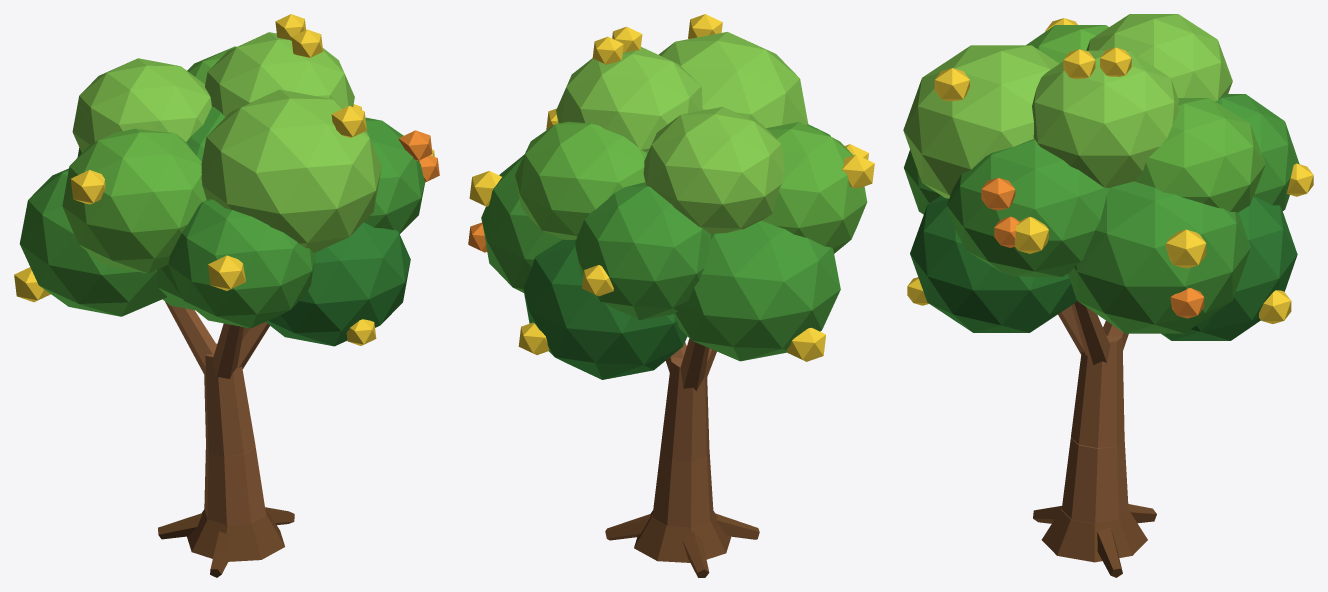
File: tree-citrus.glb
3 views of the same model, side by side, from view 1: azimuth 30°, elevation 25°; view 2: azimuth 150°, elevation 25°; view 3: azimuth 270°, elevation 25° (orthographic). The views are drawn at different scales.
Parts seen in each view (by area): view 1: Citrus_Crown, Citrus_Trunk; view 2: Citrus_Crown, Citrus_Trunk; view 3: Citrus_Crown, Citrus_Trunk.
Boxes of the visible parts, <box> form: Citrus_Crown: <box>14,14,439,346</box>; Citrus_Trunk: <box>158,301,294,577</box>; Citrus_Crown: <box>468,14,874,379</box>; Citrus_Trunk: <box>605,338,759,577</box>; Citrus_Crown: <box>903,14,1313,340</box>; Citrus_Trunk: <box>1033,300,1156,577</box>.
Size of the model in its own units: 2.03 by 2.81 by 1.96.
